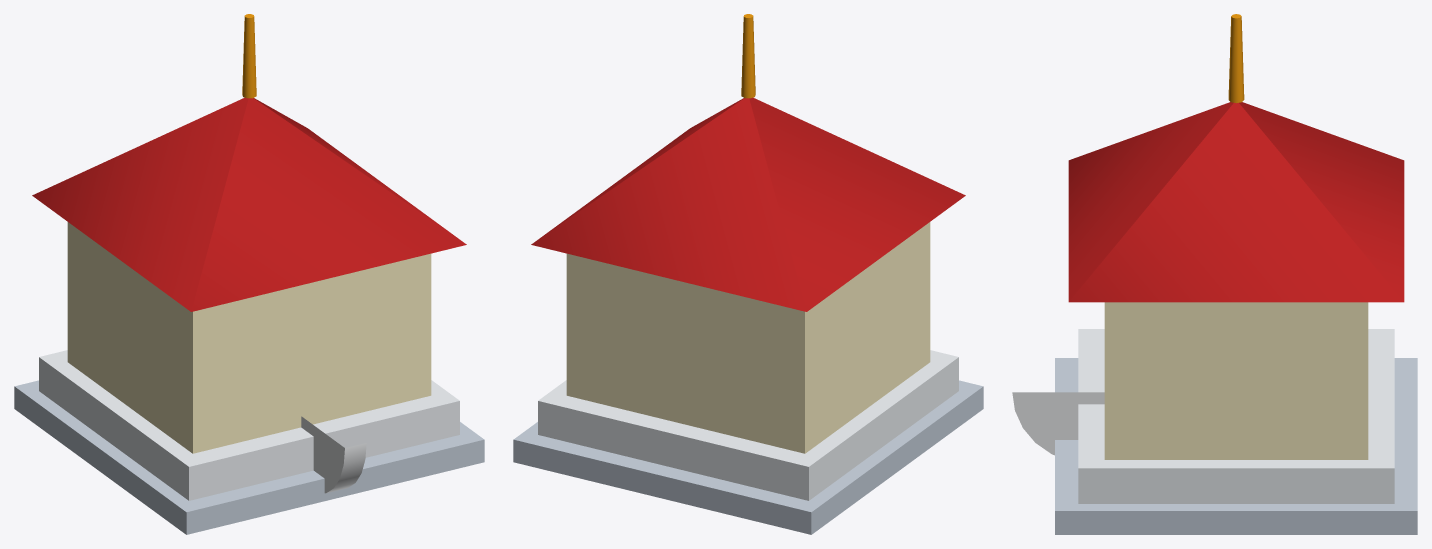
The model's file is bld_c3_cell_1.glb.
3 views of the same model, side by side, from view 1: azimuth 30°, elevation 25°; view 2: azimuth 150°, elevation 25°; view 3: azimuth 270°, elevation 25° (orthographic). The views are drawn at different scales.
Visible parts, largest first — view 1: Bld_C3_Cell_1_BespokeLandmark; view 2: Bld_C3_Cell_1_BespokeLandmark; view 3: Bld_C3_Cell_1_BespokeLandmark.
Part boxes in pixels (box(x1,y1,x2,y2)): Bld_C3_Cell_1_BespokeLandmark: box(14, 14, 484, 534); Bld_C3_Cell_1_BespokeLandmark: box(513, 14, 983, 534); Bld_C3_Cell_1_BespokeLandmark: box(1012, 14, 1417, 534).
Bounding box in the file's own units: 0.55 × 0.74 × 0.615.
